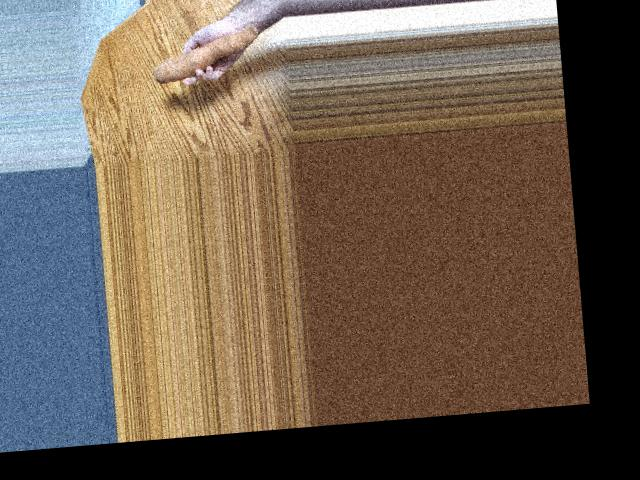sweet_potato: (149, 26, 259, 86)
